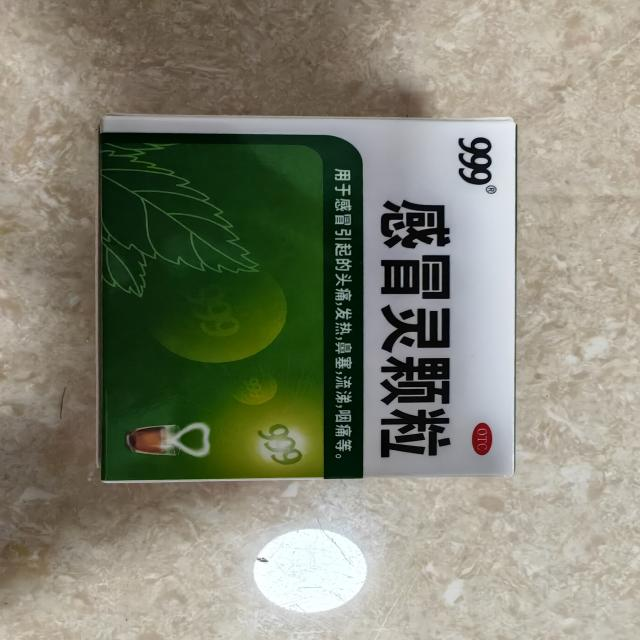box: (90, 106, 530, 487)
